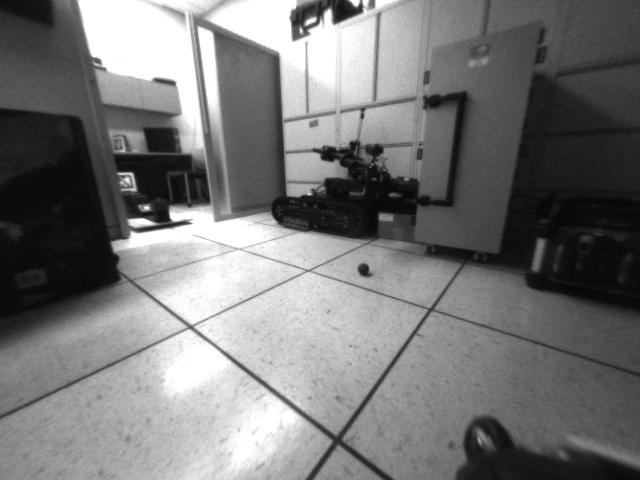dogtoy: (352, 258, 375, 281)
